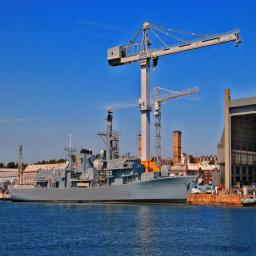Fragata: (8, 107, 202, 206)
